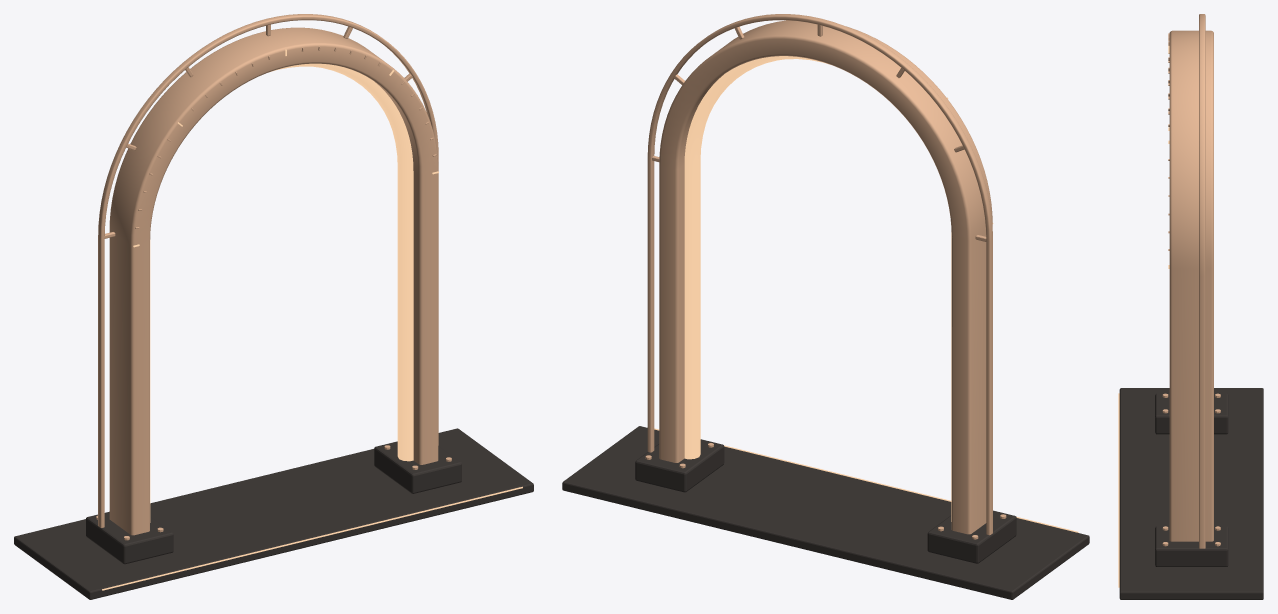
File: gateway.glb
The picture shows the model from 3 angles, left to right: view 1: azimuth 30°, elevation 25°; view 2: azimuth 150°, elevation 25°; view 3: azimuth 270°, elevation 25°; orthographic projection. The views are drawn at different scales.
Parts seen in each view (by area): view 1: GatewayFrame, GatewayPlinth, GatewayHalo; view 2: GatewayFrame, GatewayPlinth, GatewayHalo; view 3: GatewayPlinth, GatewayFrame.
Boxes of the visible parts, x1,y1,x2,y2 form: GatewayFrame: [96, 14, 451, 540]; GatewayPlinth: [14, 428, 533, 599]; GatewayHalo: [150, 63, 413, 522]; GatewayFrame: [645, 14, 1006, 539]; GatewayPlinth: [562, 426, 1089, 599]; GatewayHalo: [684, 56, 951, 521]; GatewayPlinth: [1118, 388, 1263, 599]; GatewayFrame: [1162, 14, 1220, 548].
Size of the model in its own units: 3.7 by 3.94 by 1.11.
